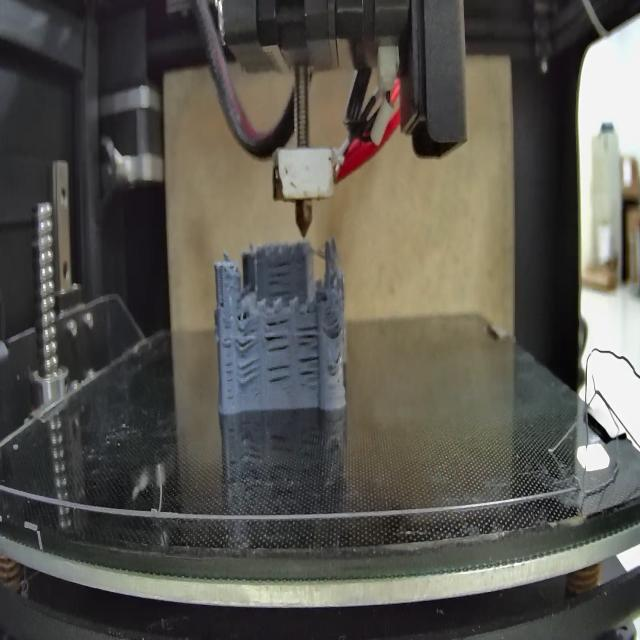cracks: (295, 328, 322, 388), (234, 306, 258, 354), (262, 316, 292, 354), (266, 257, 293, 299), (222, 336, 234, 407), (265, 363, 293, 388), (238, 360, 260, 389), (328, 319, 343, 340), (216, 294, 225, 318), (331, 350, 344, 364)
